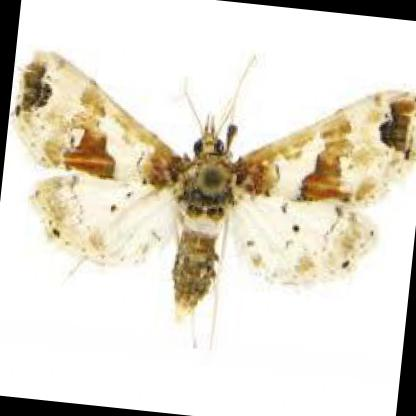leucinodes: (15, 51, 416, 323)
